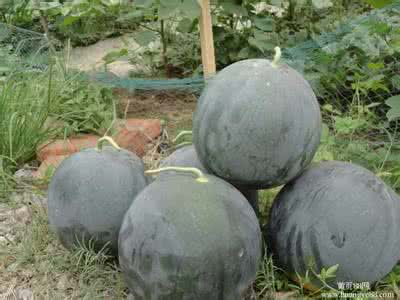watermelon: (124, 161, 260, 300), (279, 152, 400, 285), (197, 51, 314, 182), (51, 138, 143, 253), (155, 131, 206, 172)
